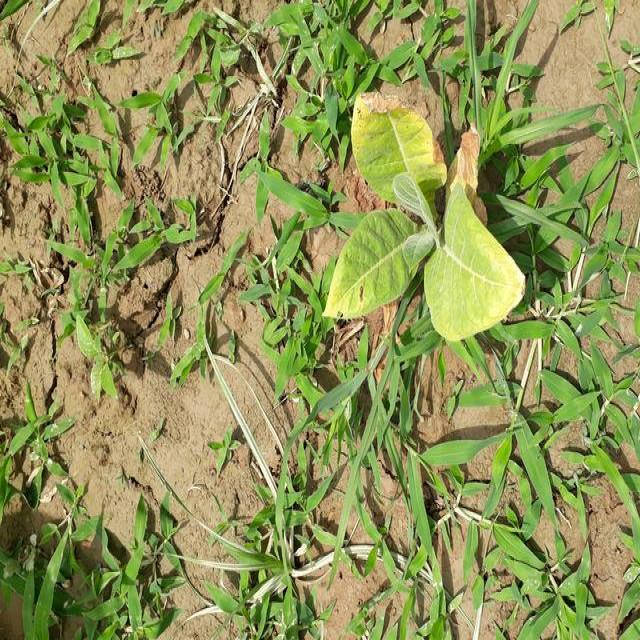crop: (319, 76, 531, 377)
